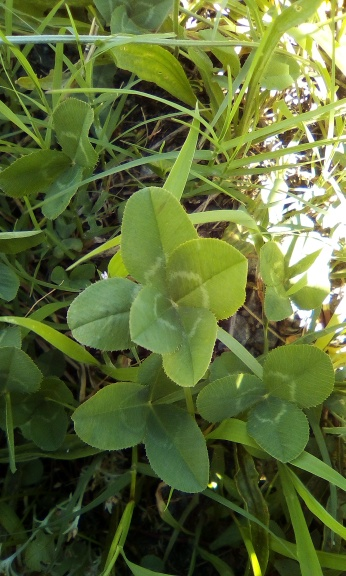4leaf: (66, 185, 250, 389)
